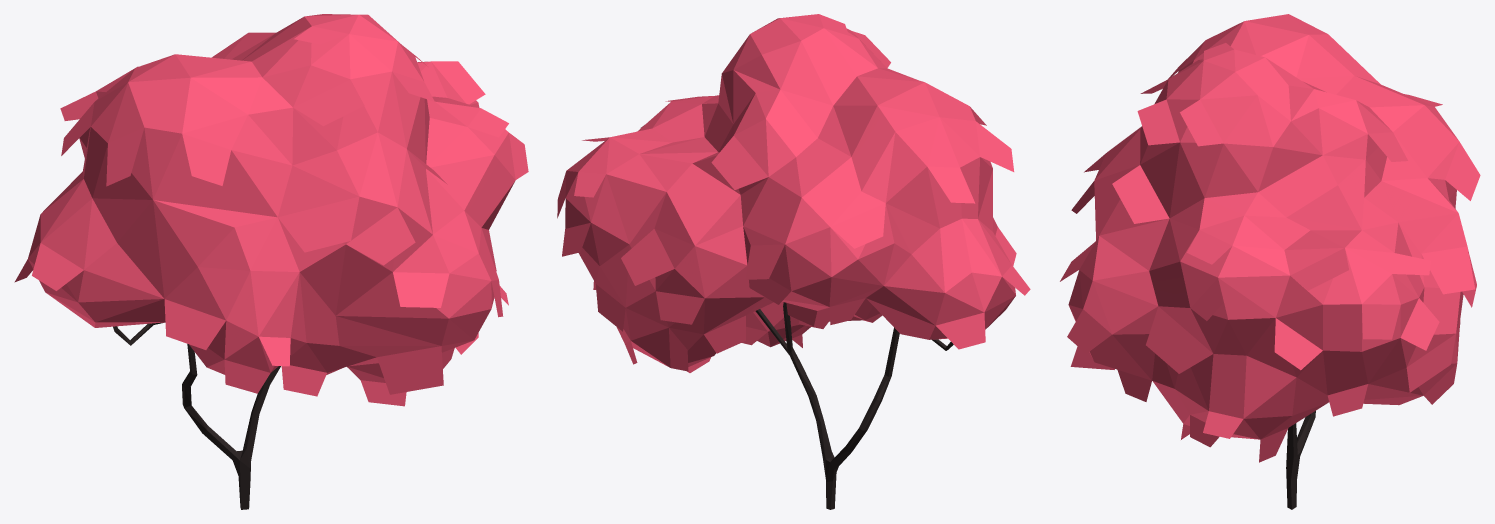
Rendered from Tree_Forest_Pink_02.glb.
3 views of the same model, side by side, from view 1: azimuth 30°, elevation 25°; view 2: azimuth 150°, elevation 25°; view 3: azimuth 270°, elevation 25° (orthographic). The views are drawn at different scales.
Visible parts, largest first — view 1: Tree_Forest_Pink_02; view 2: Tree_Forest_Pink_02; view 3: Tree_Forest_Pink_02.
Part boxes in pixels (bbox=[...]): Tree_Forest_Pink_02: bbox=[14, 14, 528, 509]; Tree_Forest_Pink_02: bbox=[557, 14, 1030, 509]; Tree_Forest_Pink_02: bbox=[1060, 14, 1480, 509].
Size of what is drawn, in the model's own units: 8.63 by 8.58 by 6.88.
Materials: 1 (1 with a texture image).
